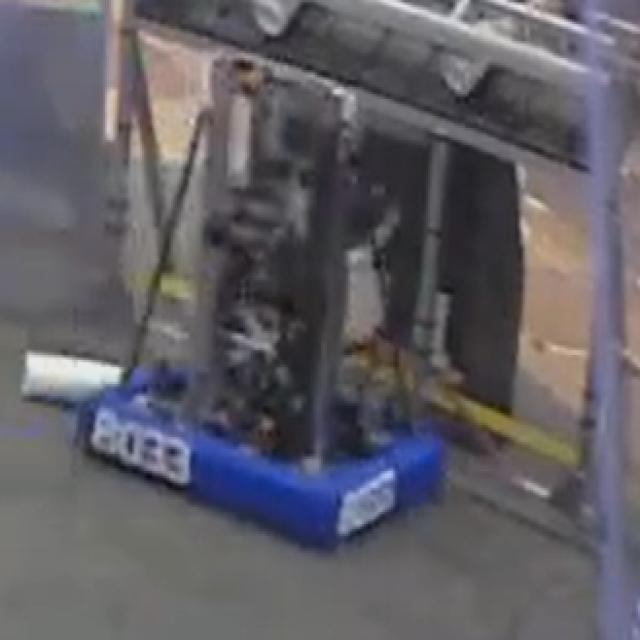Robot-YfA7: (78, 198, 446, 560)
